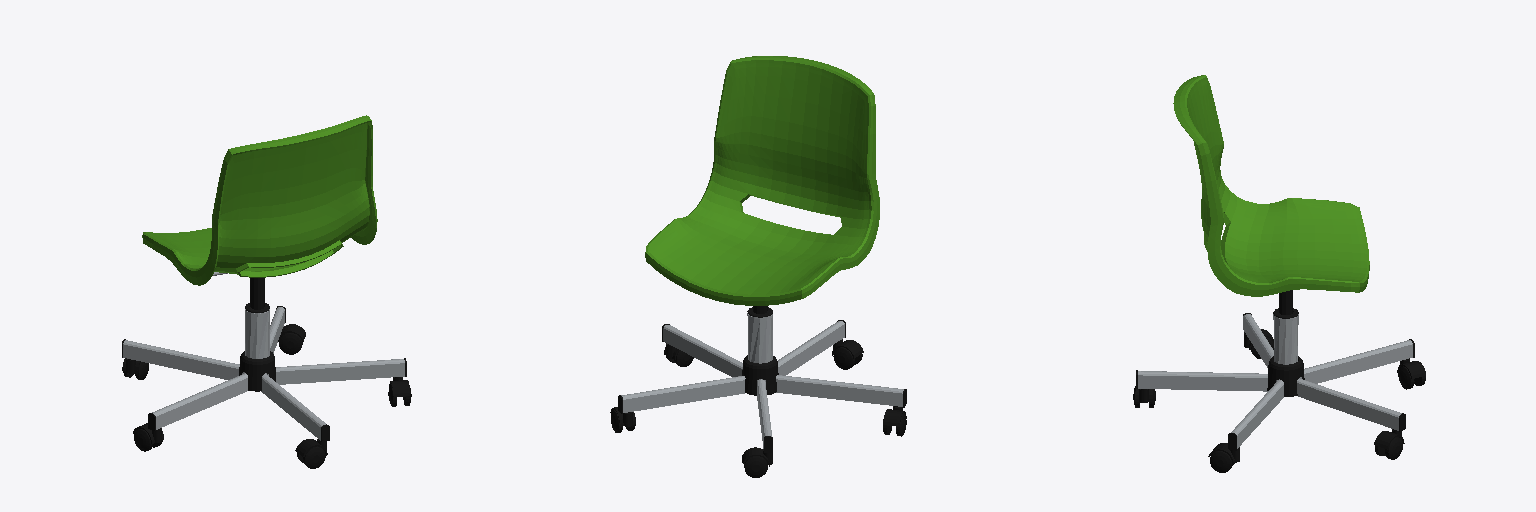
3 renders of one model, left to right at view 1: azimuth 30°, elevation 25°; view 2: azimuth 150°, elevation 25°; view 3: azimuth 270°, elevation 25°, orthographic.
Parts seen in each view (by area): view 1: Mesh2 Group2 SNILLE_IKEA1 Model, Mesh8 Group6 SNILLE_IKEA1 Model, Mesh7 Group5 SNILLE_IKEA1 Model, Mesh1 Group1 SNILLE_IKEA1 Model, Mesh3 Group3 SNILLE_IKEA1 Model; view 2: Mesh2 Group2 SNILLE_IKEA1 Model, Mesh8 Group6 SNILLE_IKEA1 Model, Mesh7 Group5 SNILLE_IKEA1 Model, Mesh1 Group1 SNILLE_IKEA1 Model; view 3: Mesh2 Group2 SNILLE_IKEA1 Model, Mesh8 Group6 SNILLE_IKEA1 Model, Mesh7 Group5 SNILLE_IKEA1 Model, Mesh1 Group1 SNILLE_IKEA1 Model.
Part boxes in pixels (left/top/right/bottom): Mesh2 Group2 SNILLE_IKEA1 Model: left=142, top=115, right=377, bottom=285; Mesh8 Group6 SNILLE_IKEA1 Model: left=122, top=306, right=406, bottom=441; Mesh7 Group5 SNILLE_IKEA1 Model: left=245, top=309, right=269, bottom=358; Mesh1 Group1 SNILLE_IKEA1 Model: left=239, top=351, right=275, bottom=391; Mesh3 Group3 SNILLE_IKEA1 Model: left=245, top=278, right=269, bottom=312; Mesh2 Group2 SNILLE_IKEA1 Model: left=645, top=56, right=879, bottom=305; Mesh8 Group6 SNILLE_IKEA1 Model: left=618, top=320, right=906, bottom=452; Mesh7 Group5 SNILLE_IKEA1 Model: left=747, top=313, right=772, bottom=363; Mesh1 Group1 SNILLE_IKEA1 Model: left=742, top=355, right=778, bottom=395; Mesh2 Group2 SNILLE_IKEA1 Model: left=1173, top=75, right=1369, bottom=296; Mesh8 Group6 SNILLE_IKEA1 Model: left=1136, top=313, right=1414, bottom=450; Mesh7 Group5 SNILLE_IKEA1 Model: left=1273, top=314, right=1298, bottom=364; Mesh1 Group1 SNILLE_IKEA1 Model: left=1267, top=356, right=1304, bottom=396.
Size of the model in its own units: 0.5932 by 0.6977 by 0.5906.